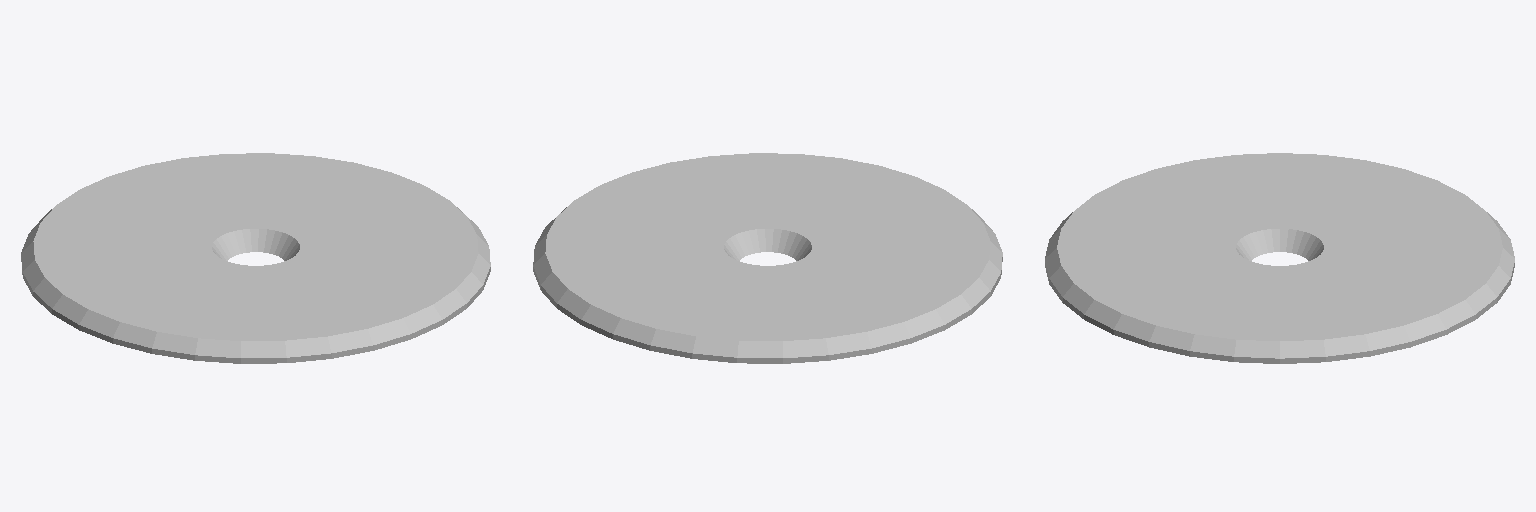
The model's file is map_simplified1.obj.
3 views of the same model, side by side, from view 1: azimuth 30°, elevation 25°; view 2: azimuth 150°, elevation 25°; view 3: azimuth 270°, elevation 25° (orthographic).
Parts seen in each view (by area): view 1: Cylinder; view 2: Cylinder; view 3: Cylinder.
Boxes of the visible parts, box(x1,y1,x2,y2) form: Cylinder: box(21, 153, 490, 363); Cylinder: box(533, 153, 1002, 363); Cylinder: box(1045, 153, 1514, 363).
Size of the model in its own units: 200 by 8.22 by 200.